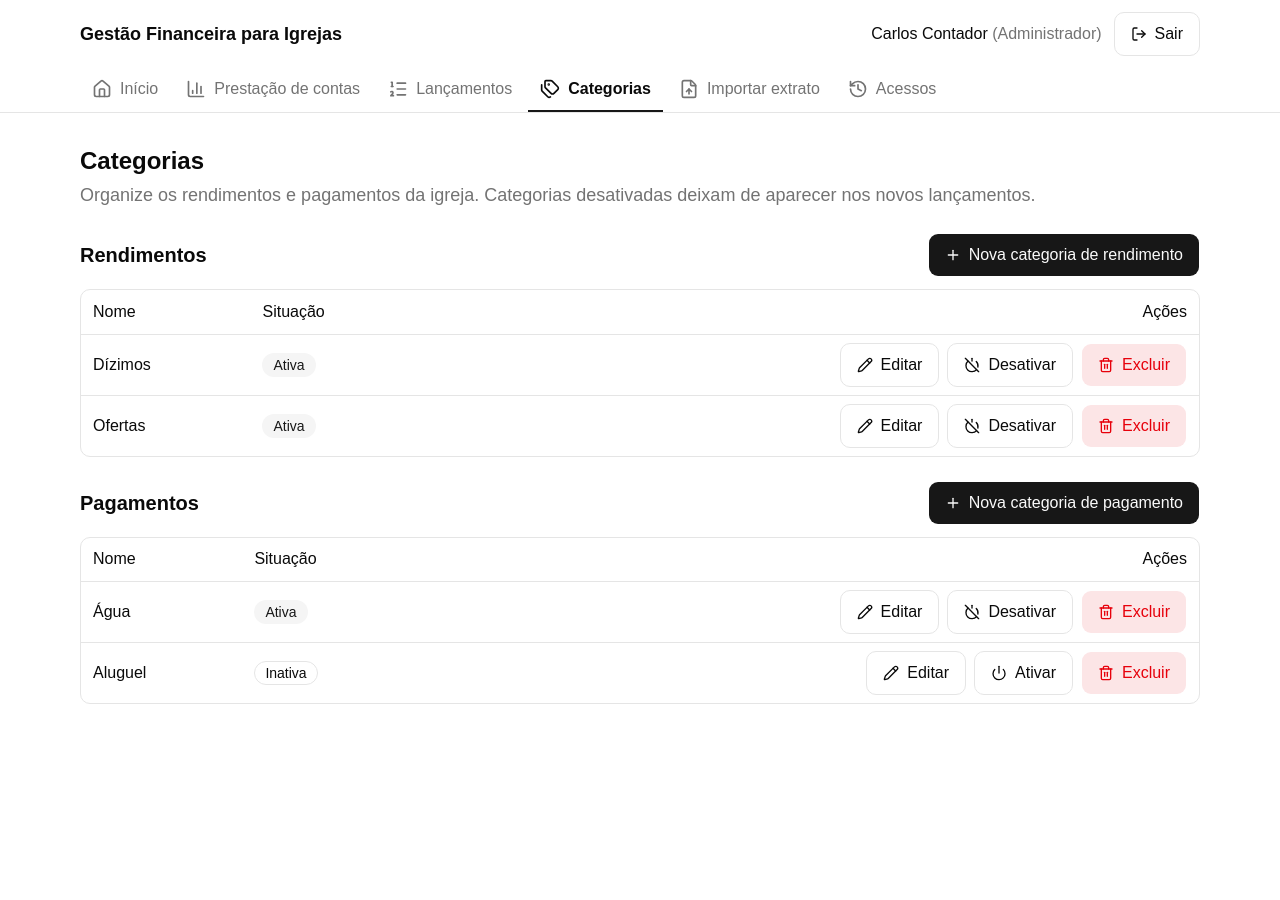
Scenario: Página de categorias › pede confirmação e mostra o motivo quando a exclusão é recusada
Click the button with aria-label "Excluir Dízimos" at point(1134, 364), box [1081,342,1187,386]
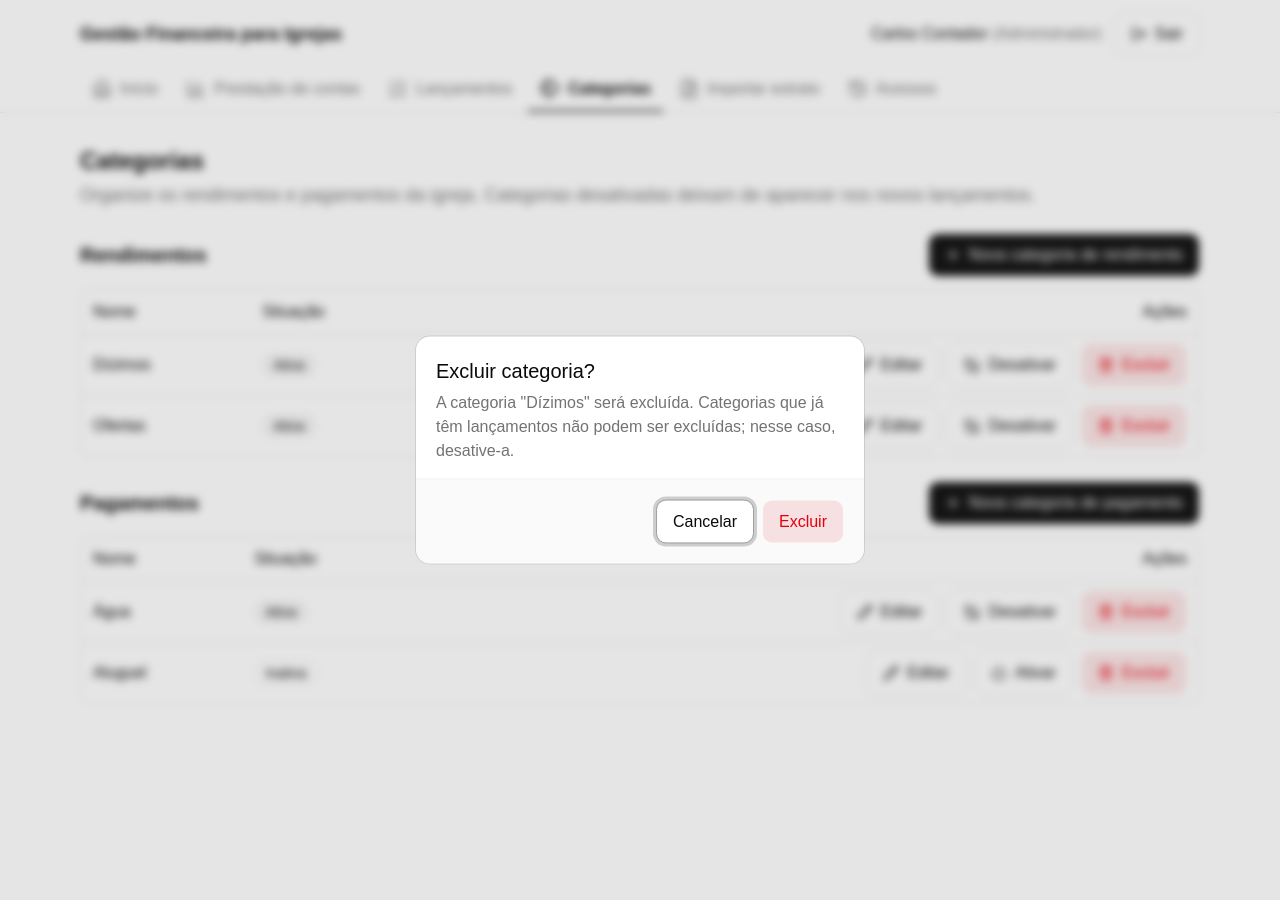
Click the button "Excluir" at point(803, 522), box [762,500,844,544]
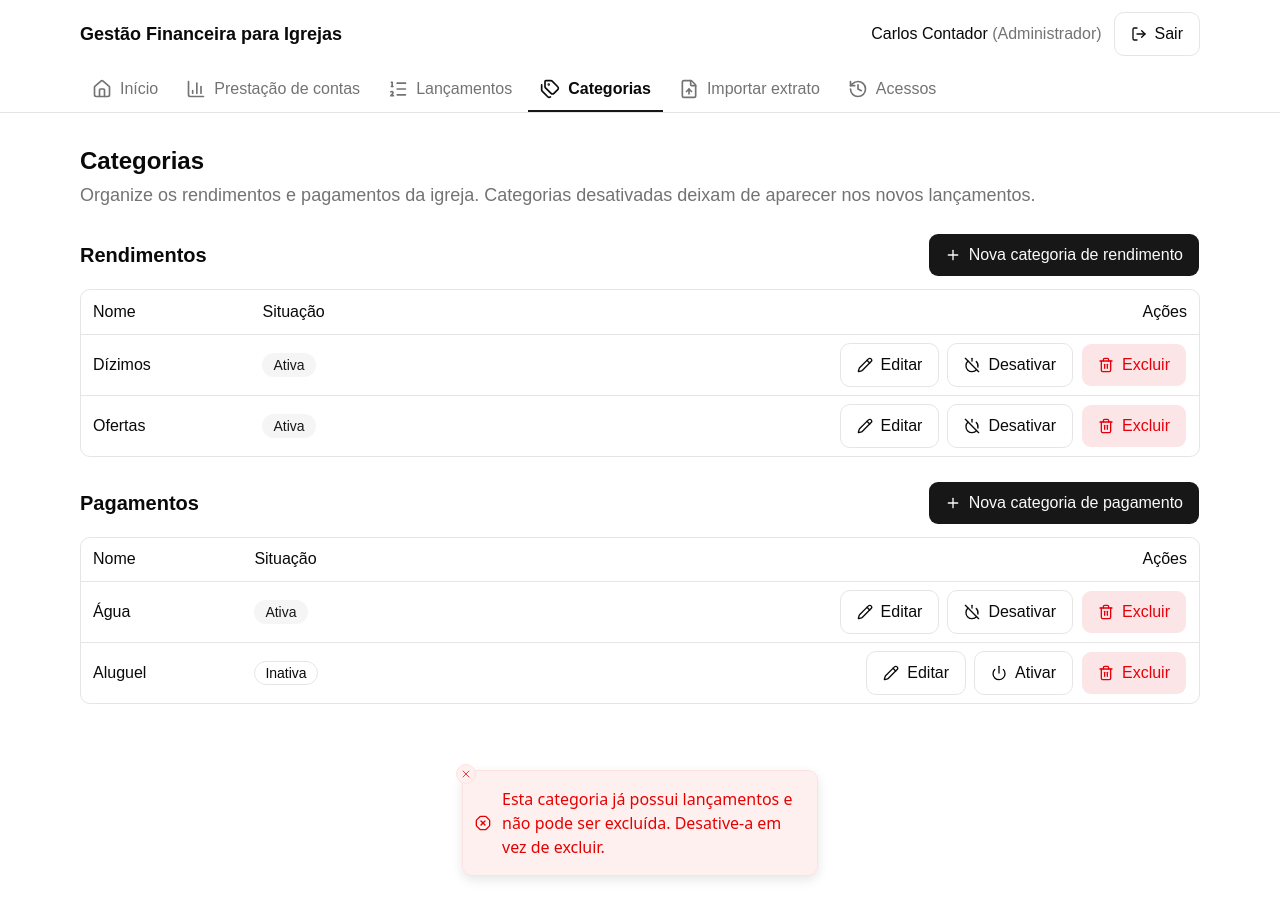
Check: the text "Desative-a em vez de excluir" is shown, box [502,788,792,858]
